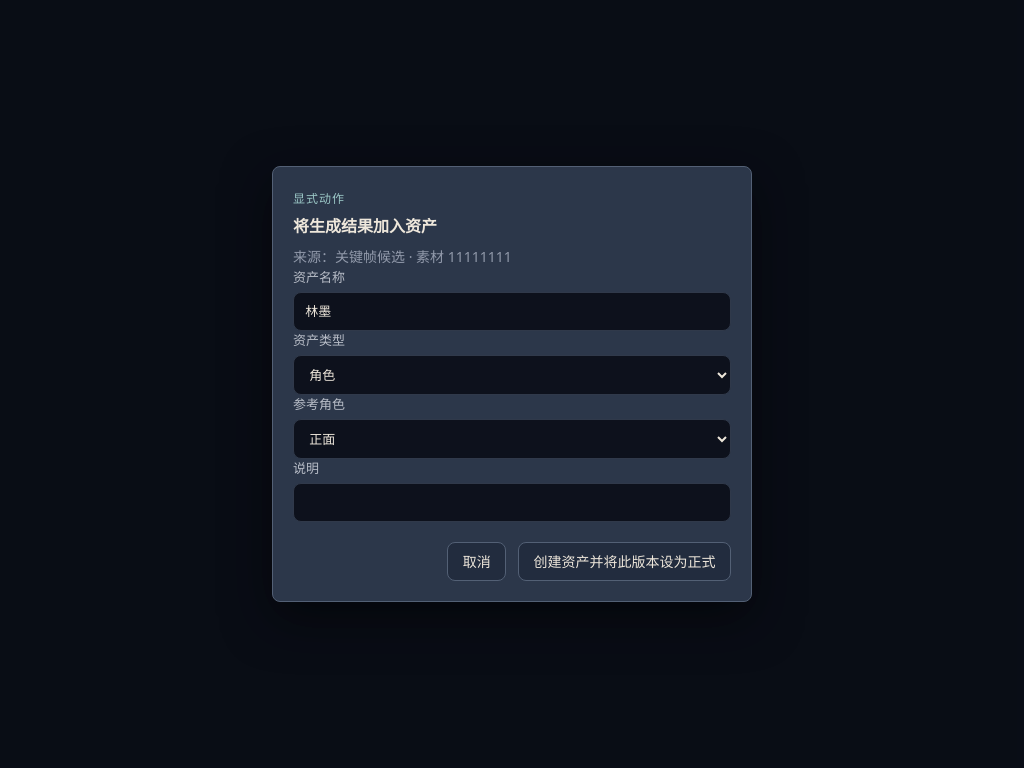
Test: AddArtifactToAssetDialog › shows the provenance and sends one explicit creation request with a stable key
This screenshot has width=1024, height=768.
Check: the text with test id "add-asset-source" shows "关键帧候选", box left=335, top=247, right=405, bottom=266
Check: the dropdown labelled "资产类型" shows "角色", box left=293, top=355, right=731, bottom=395
Click the button with test id "add-asset-confirm": click(625, 562) left=518, top=542, right=731, bottom=581
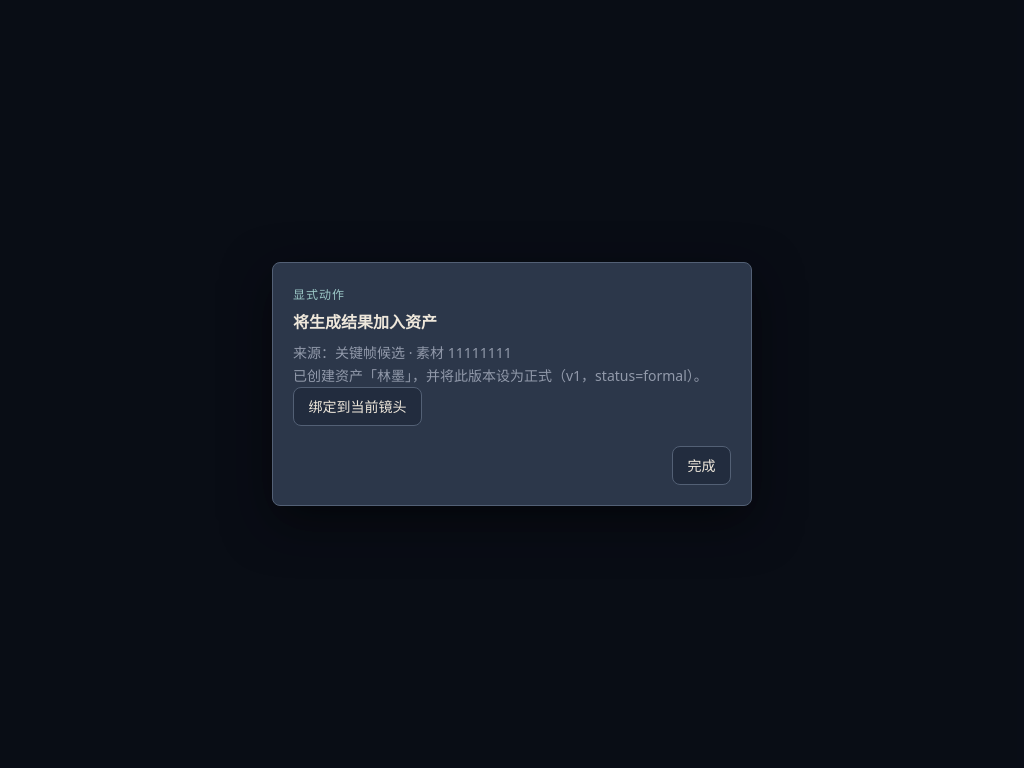
Check: the message with test id "add-asset-result" shows "已创建资产「林墨」", box left=293, top=364, right=731, bottom=485
Check: the message with test id "add-asset-result" shows "status=formal", box left=405, top=366, right=708, bottom=385
